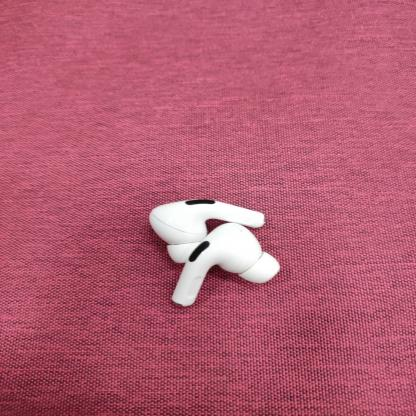Airpods: (161, 218, 291, 300), (142, 187, 291, 248)
